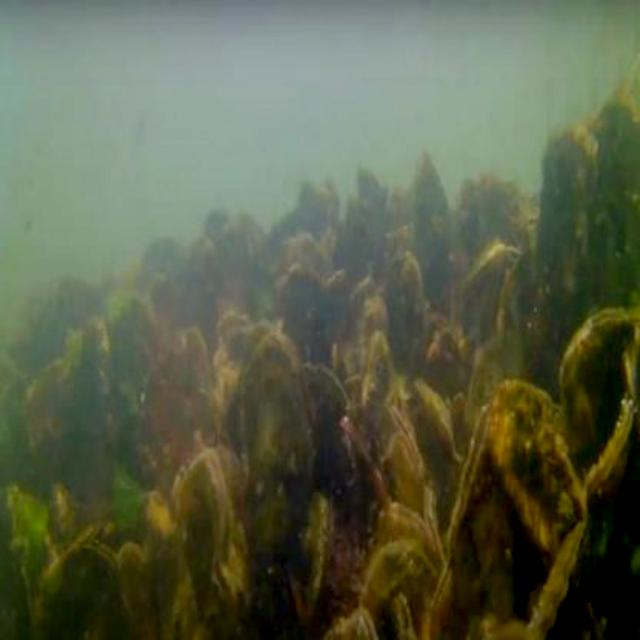Oyster-Closed: (493, 374, 586, 561), (560, 307, 640, 462), (238, 337, 313, 486), (35, 532, 128, 640), (540, 127, 599, 280), (584, 396, 633, 558), (177, 447, 231, 593), (531, 514, 590, 640), (451, 401, 494, 559), (301, 359, 357, 469), (289, 479, 328, 621), (464, 245, 524, 322), (414, 379, 461, 456), (359, 326, 398, 417), (387, 402, 429, 486), (377, 502, 434, 554), (412, 142, 442, 224), (327, 594, 375, 640), (619, 337, 640, 427), (432, 558, 455, 640), (181, 332, 212, 391), (391, 590, 416, 640)
